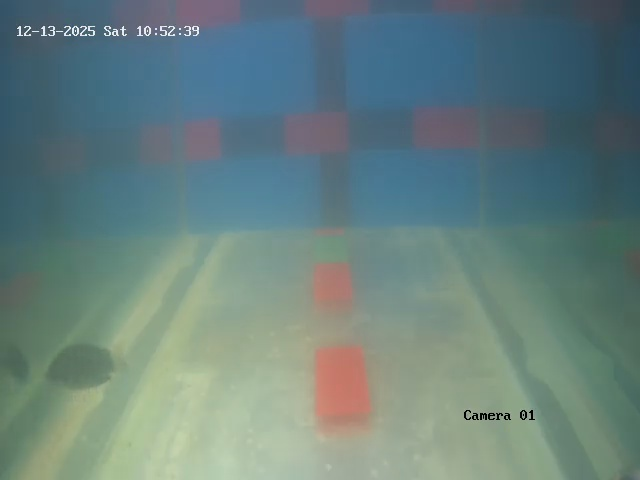fish: (41, 329, 119, 405)
